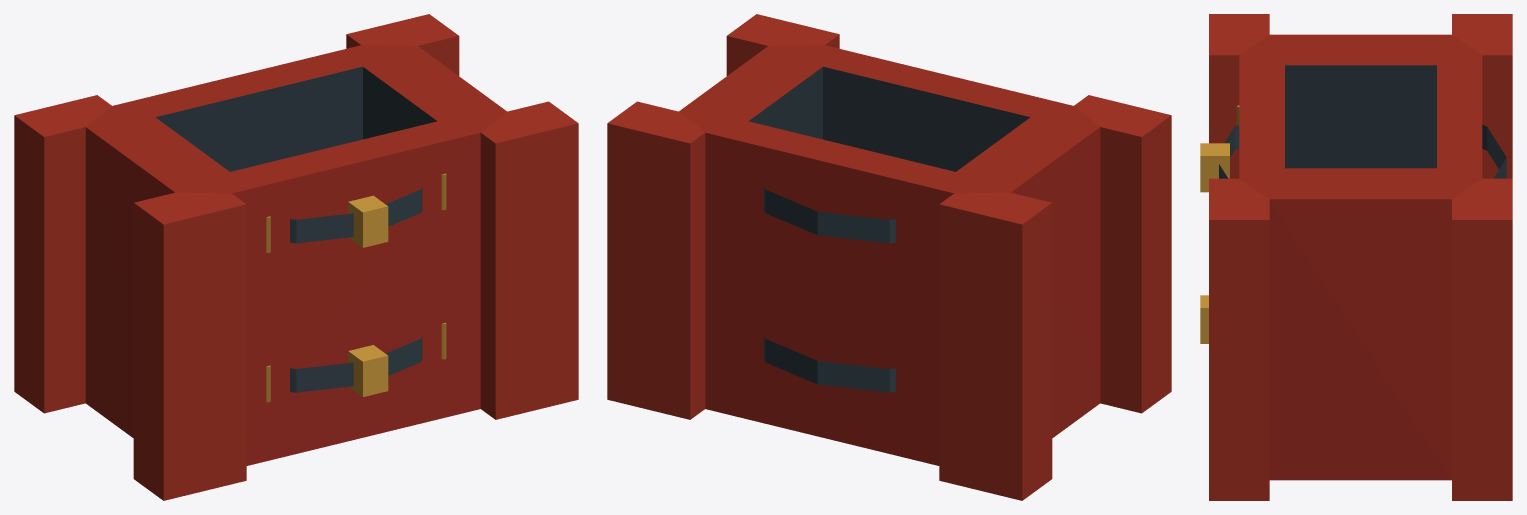
File: dock-chest-coral.glb
3 views of the same model, side by side, from view 1: azimuth 30°, elevation 25°; view 2: azimuth 150°, elevation 25°; view 3: azimuth 270°, elevation 25° (orthographic).
Visible parts, largest first — view 1: dock-chest-coral; view 2: dock-chest-coral; view 3: dock-chest-coral.
Boxes of the visible parts, x1=… form: dock-chest-coral: x1=14, y1=14, x2=578, y2=500; dock-chest-coral: x1=607, y1=14, x2=1171, y2=500; dock-chest-coral: x1=1200, y1=14, x2=1512, y2=500.
Size of the model in its own units: 0.77 by 0.49 by 0.4939.
